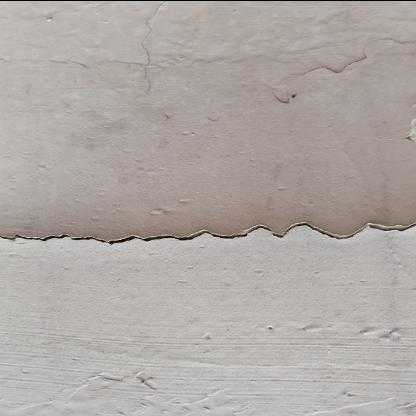crack: (0, 221, 416, 244)
